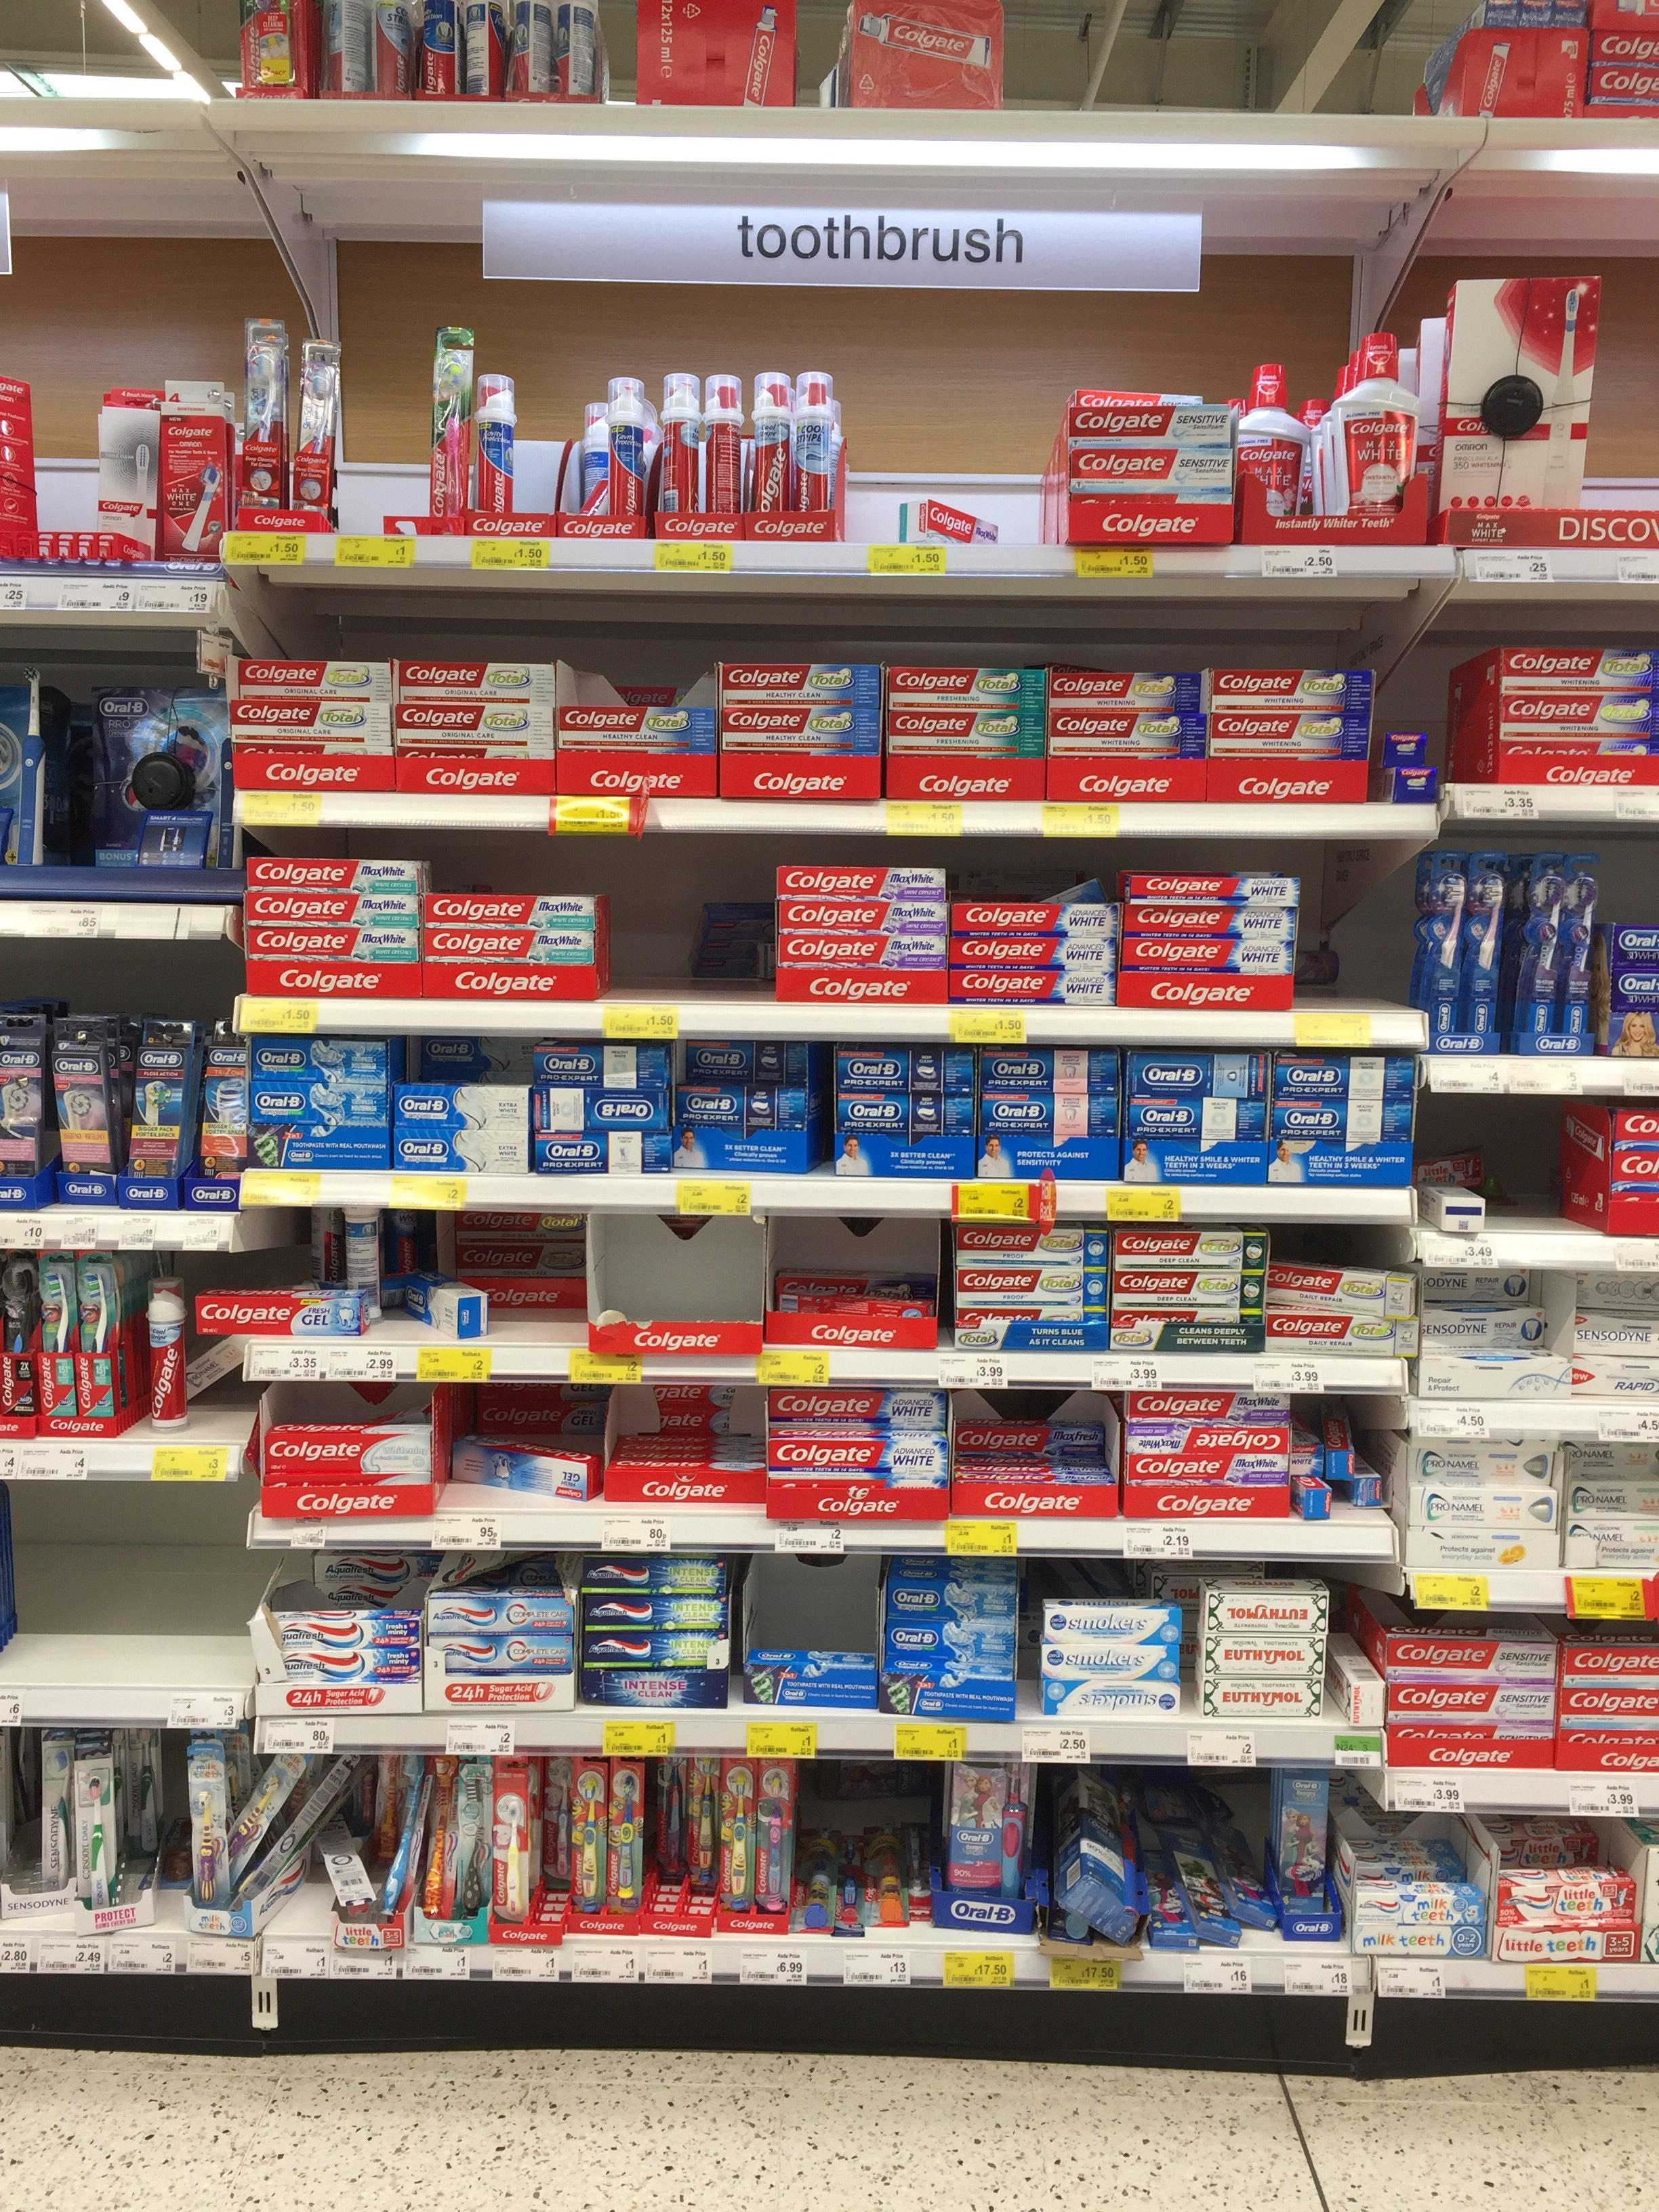empty: (24, 1486, 240, 1667), (610, 845, 774, 986), (1298, 848, 1406, 1005), (345, 364, 432, 528), (518, 374, 582, 510)
misalignment: (186, 1740, 429, 1940), (186, 1212, 484, 1346), (1061, 1777, 1148, 1940), (443, 1425, 598, 1515), (1293, 1416, 1382, 1514), (882, 486, 1012, 552), (1424, 1157, 1504, 1238)
